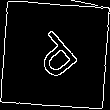P_SE: (25, 24, 85, 86)
